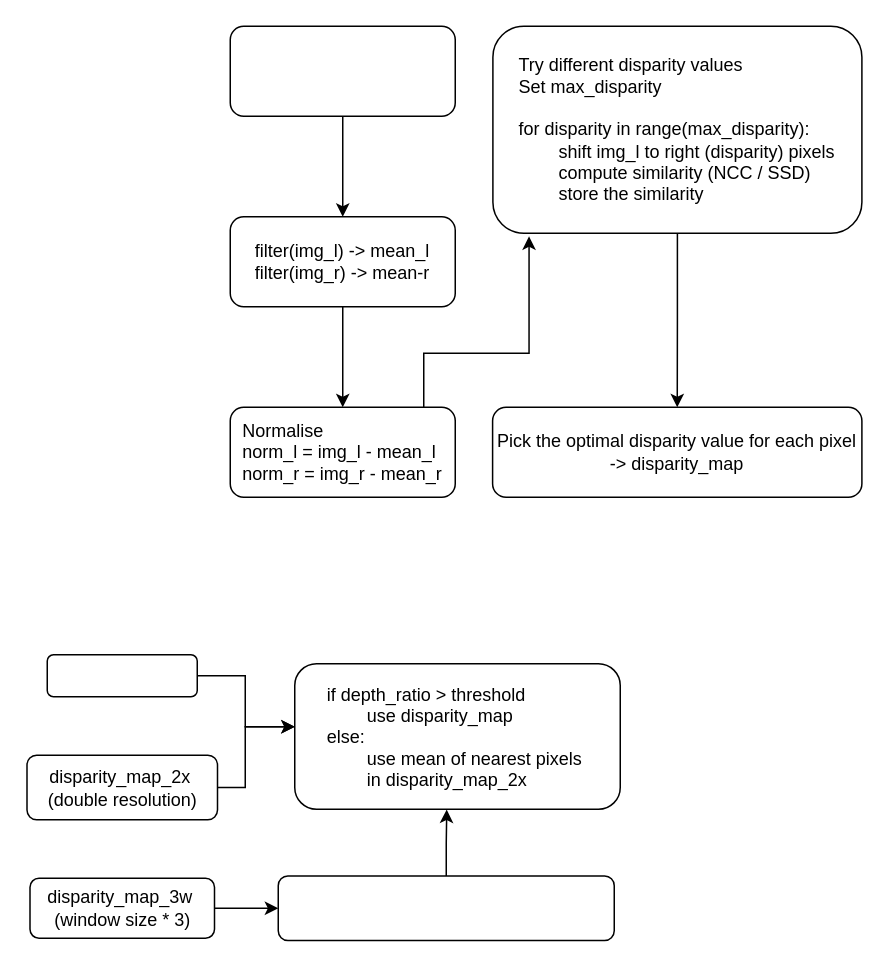
The diagram is 888 pixels wide and 977 high, and some of its shapes have lost their labels. Here are the shapes that lost their labels. From the top down, the box of each, then its label:
(229, 25, 455, 116): read left image -> img_l right right image -> img_r
(46, 653, 197, 697): disparity_map
(277, 874, 614, 940): depth_ratio = pixel_3w / max_disparity
